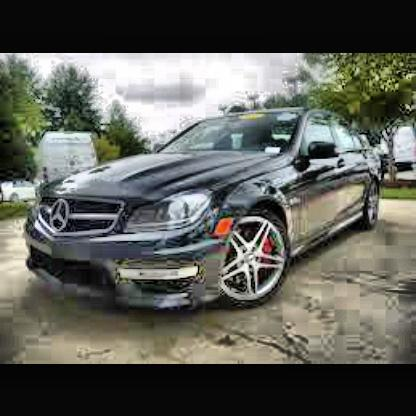Mercedes-Benz C-Class Sedan 2012: (17, 74, 397, 345)
